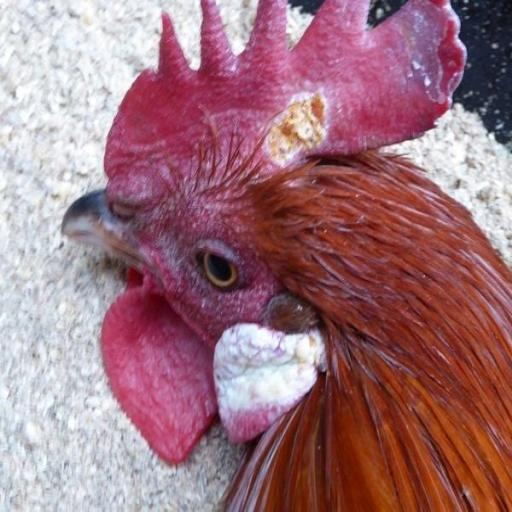disease: (238, 70, 398, 182)
